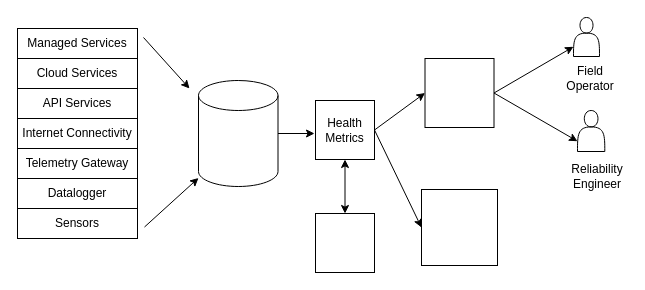
This 645x290 diagram has some shape labels left out. The shapes that lost their labels are listed below. From the top down, each one's centre as x and y in pixels, then its label:
the point at 459,93: Alerts
the point at 238,133: Log Aggregation
the point at 344,242: AI Anomoly Detection
the point at 459,227: Dashboard
